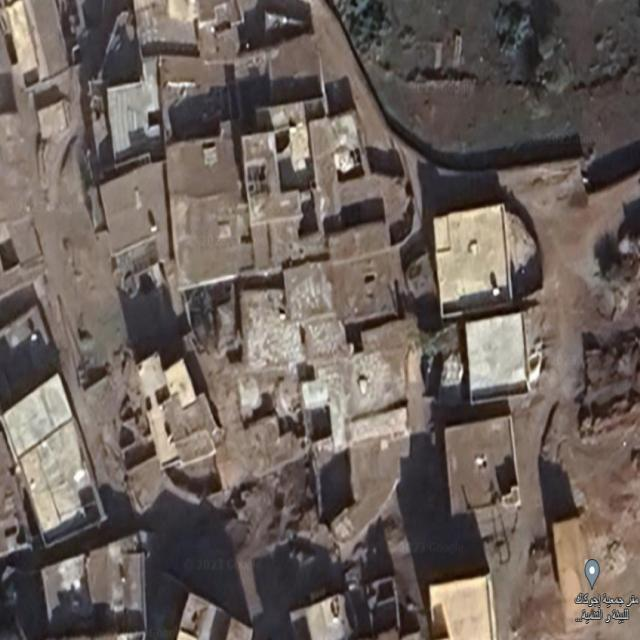Countryside roofs: (0, 373, 113, 547), (291, 89, 401, 262), (161, 104, 250, 314), (422, 190, 532, 339), (136, 350, 224, 494), (425, 406, 528, 528), (310, 422, 418, 534), (449, 301, 542, 407), (95, 61, 173, 165), (87, 164, 170, 260), (408, 562, 506, 640), (89, 527, 164, 626), (33, 551, 99, 636), (34, 89, 78, 148)
